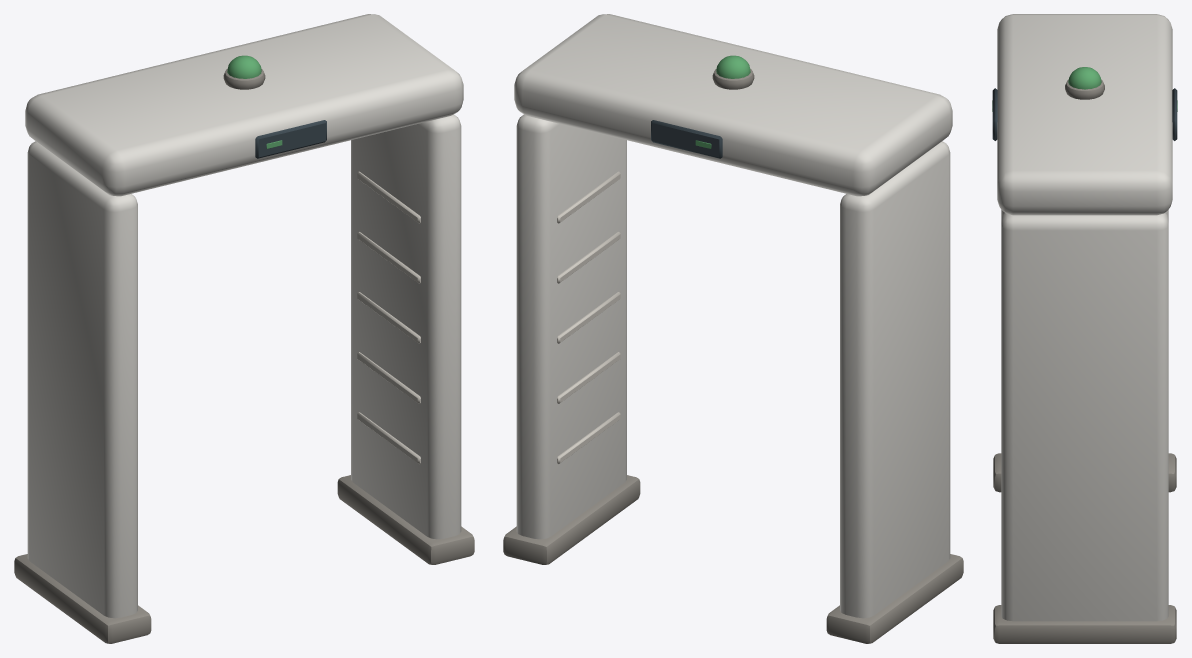
Rendered from metal_detector.glb.
The picture shows the model from 3 angles, left to right: view 1: azimuth 30°, elevation 25°; view 2: azimuth 150°, elevation 25°; view 3: azimuth 270°, elevation 25°; orthographic projection. The views are drawn at different scales.
Visible parts, largest first — view 1: white, steel_dark, steel, screen, cross; view 2: white, steel_dark, steel, screen, cross; view 3: white, steel_dark, cross, screen.
Part boxes in pixels (x1,y1,x2,y2): white: (25, 14, 463, 618); steel_dark: (14, 68, 474, 643); steel: (357, 171, 420, 464); screen: (255, 120, 326, 158); cross: (227, 55, 282, 148); white: (514, 14, 952, 618); steel_dark: (503, 68, 963, 643); steel: (557, 171, 620, 464); screen: (651, 120, 722, 158); cross: (695, 55, 750, 148); white: (997, 14, 1172, 621); steel_dark: (993, 80, 1176, 643); cross: (992, 67, 1177, 111); screen: (992, 88, 1177, 140).
Size of the model in its own units: 1.03 by 1.36 by 0.464.
